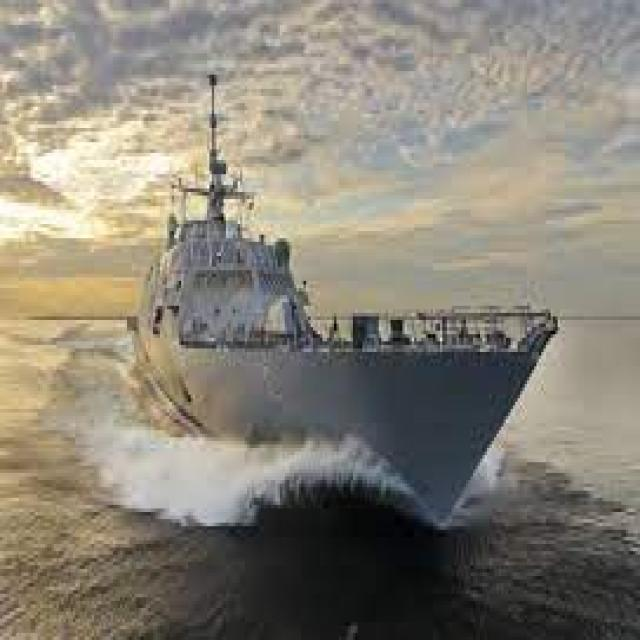navalvessels: (131, 107, 547, 511)
